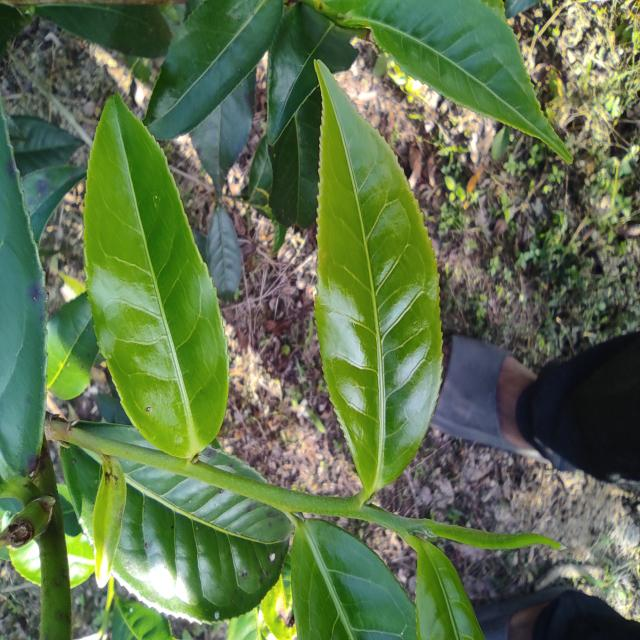Category B 2-4 days: (306, 45, 448, 522)
